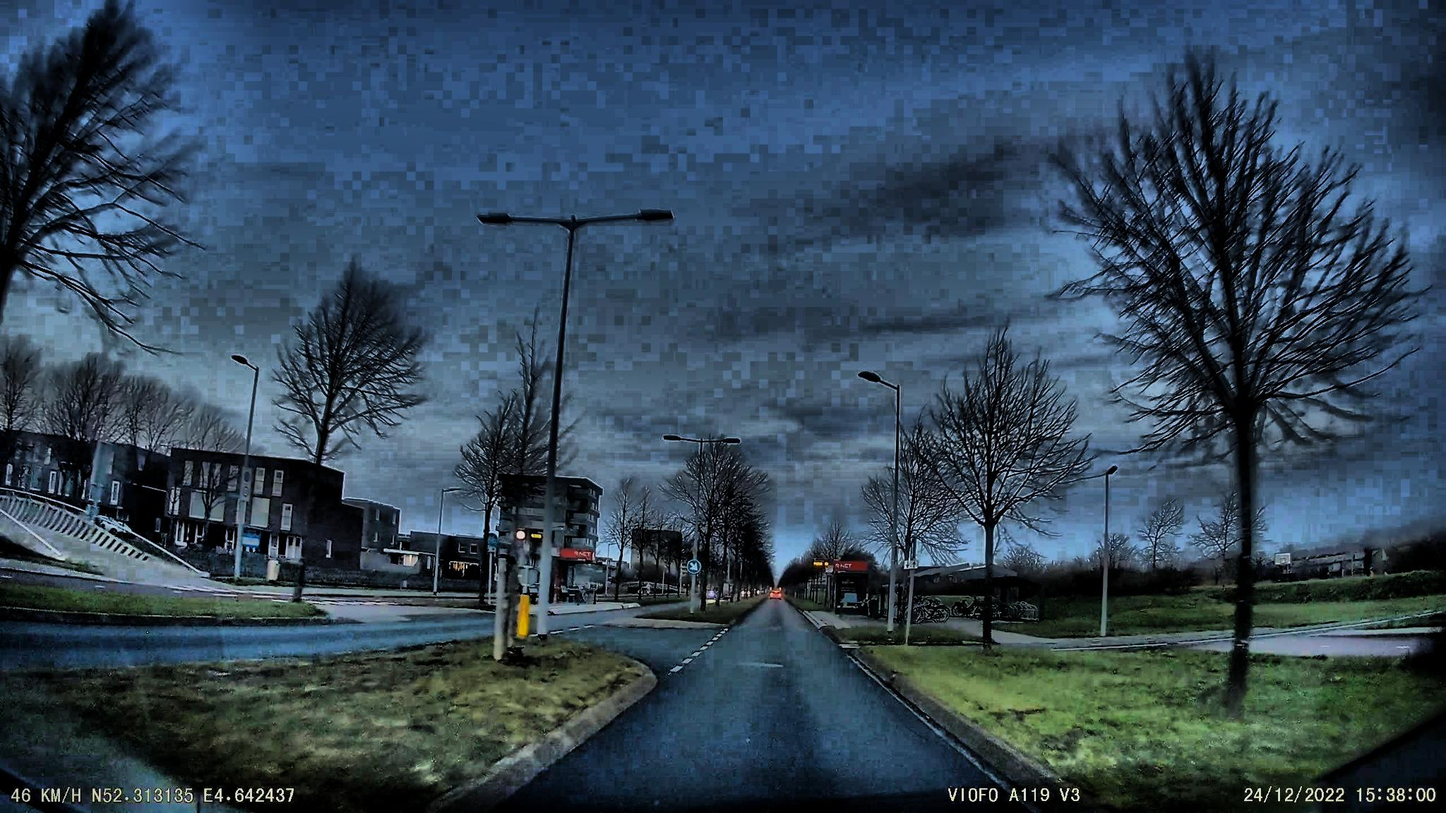Roads: (494, 600, 1101, 813)
